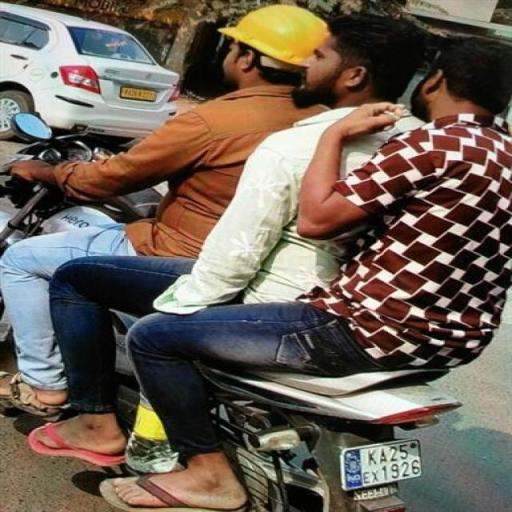tripple riding: (2, 1, 512, 344)
